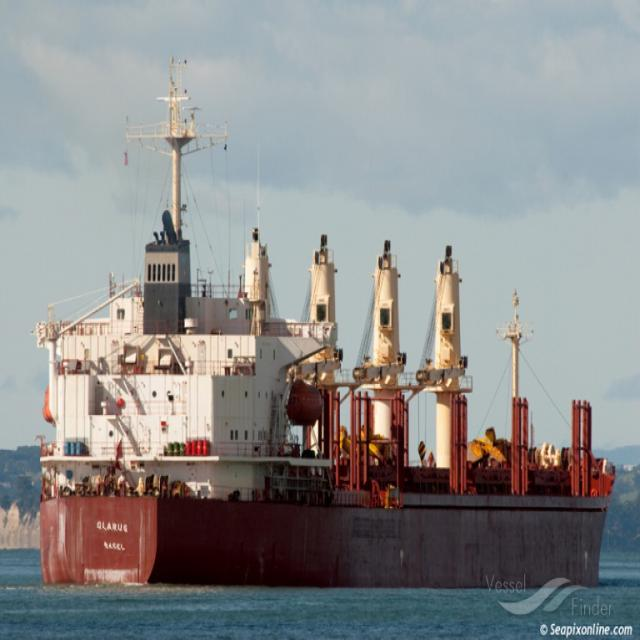OCR: (88, 513, 134, 556)
